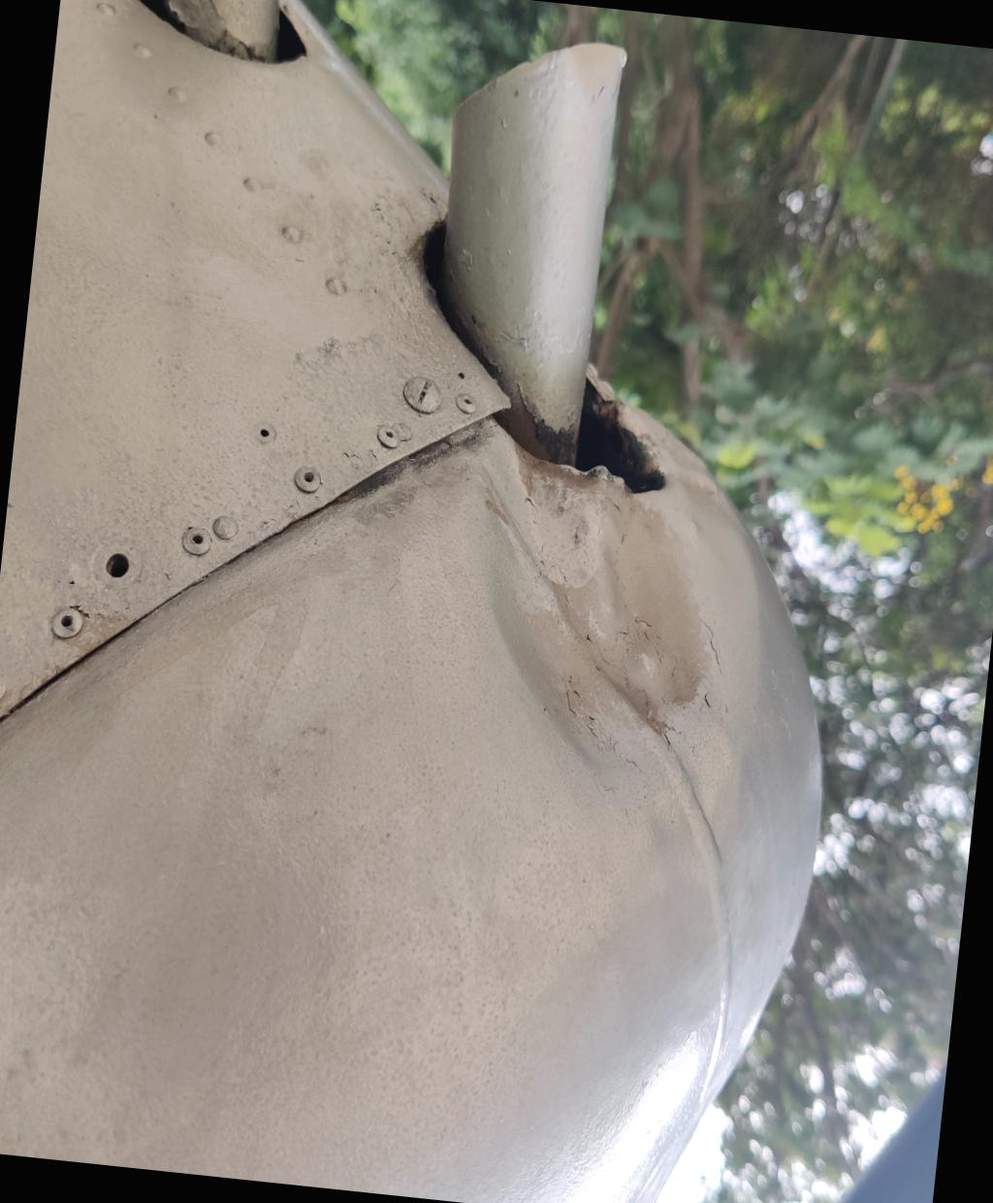dent: (422, 397, 774, 836)
